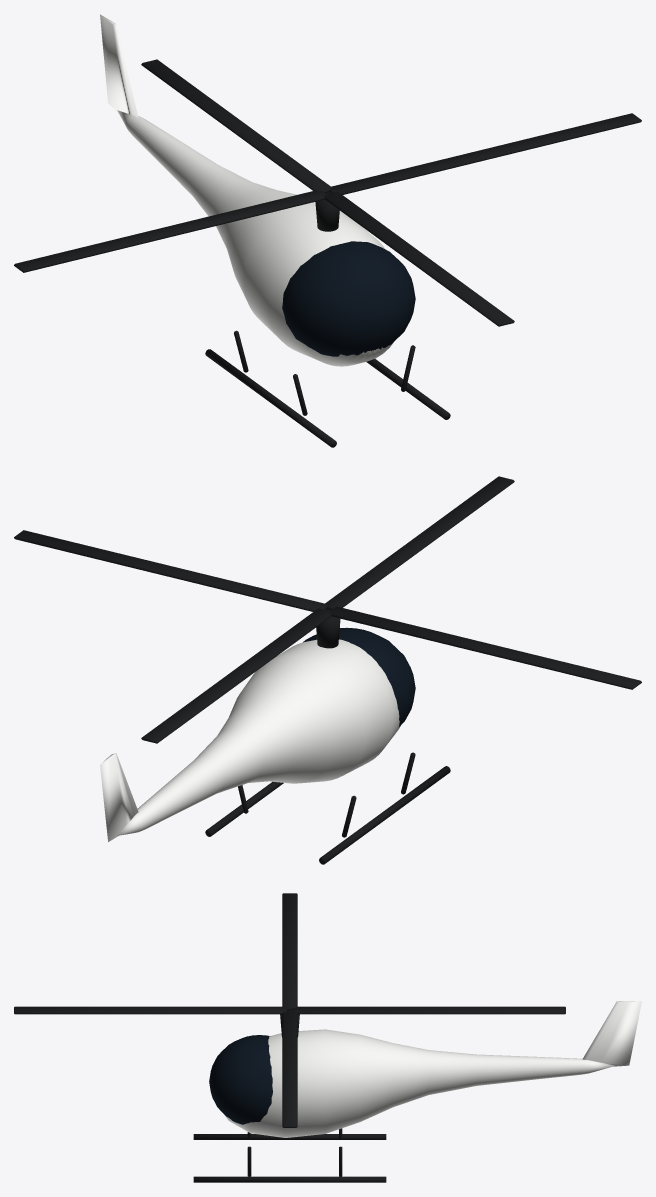
Rendered from heli.glb.
The picture shows the model from 3 angles, top to bottom: view 1: azimuth 30°, elevation 25°; view 2: azimuth 150°, elevation 25°; view 3: azimuth 270°, elevation 25°; orthographic projection. The views are drawn at different scales.
Visible parts, largest first — view 1: Body, Bubble, Blade2, Blade0, Blade3, Blade1, Fin, Skid-1, Skid1, Mast; view 2: Body, Blade2, Blade0, Blade1, Blade3, Bubble, Fin, Skid-1, Skid1, Mast; view 3: Body, Bubble, Blade1, Blade3, Fin, Blade0, Blade2, Skid1, Skid-1.
Part boxes in pixels (x1,y1,x2,y2): Body: (117,110,393,366); Bubble: (282,241,415,356); Blade2: (14,190,327,272); Blade0: (329,113,641,194); Blade3: (323,191,514,326); Blade1: (141,59,332,192); Fin: (100,14,138,117); Skid-1: (205,349,336,447); Skid1: (366,359,450,419); Mast: (315,192,339,231); Body: (117,639,400,835); Blade2: (328,606,641,689); Blade0: (14,530,327,611); Blade1: (141,608,331,743); Blade3: (325,476,514,609); Bubble: (303,627,415,726); Fin: (100,753,138,841); Skid-1: (319,766,450,864); Skid1: (205,781,283,836); Mast: (316,609,340,648); Body: (224,1029,614,1137); Bubble: (209,1035,272,1124); Blade1: (292,1006,565,1014); Blade3: (14,1006,287,1014); Fin: (582,1001,641,1066); Blade0: (282,1011,297,1127); Blade2: (282,893,297,1010); Skid1: (193,1176,386,1182); Skid-1: (193,1134,386,1139).
Size of the model in its own units: 10.9 by 3.48 by 12.4.
